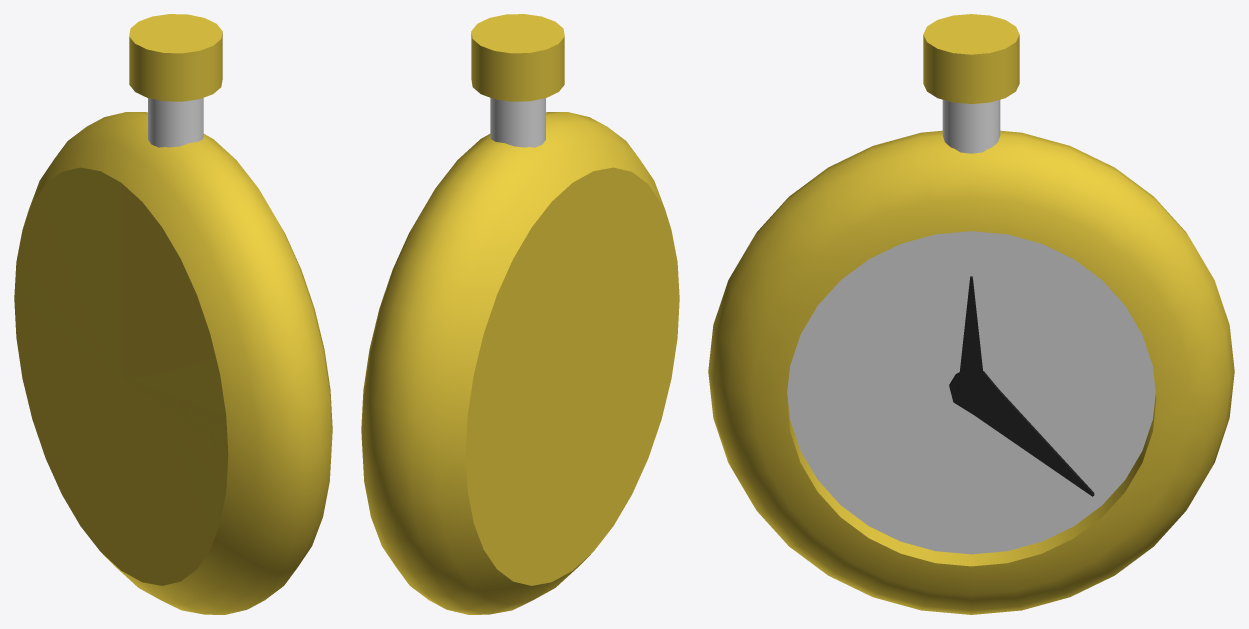
The model's file is Timere01.fbx.
The picture shows the model from 3 angles, left to right: view 1: azimuth 30°, elevation 25°; view 2: azimuth 150°, elevation 25°; view 3: azimuth 270°, elevation 25°; orthographic projection. The views are drawn at different scales.
Visible parts, largest first — view 1: Cube; view 2: Cube; view 3: Cube.
Boxes of the visible parts, x1,y1,x2,y2 form: Cube: (14,14,332,614); Cube: (361,14,679,614); Cube: (708,14,1234,614).
Bounding box in the file's own units: 13.63 × 67.04 × 55.55.
